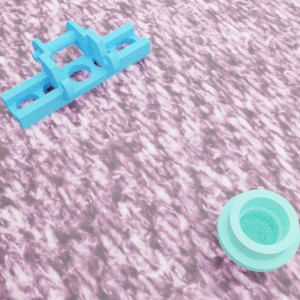lego: (0, 20, 150, 130), (216, 189, 300, 271)
